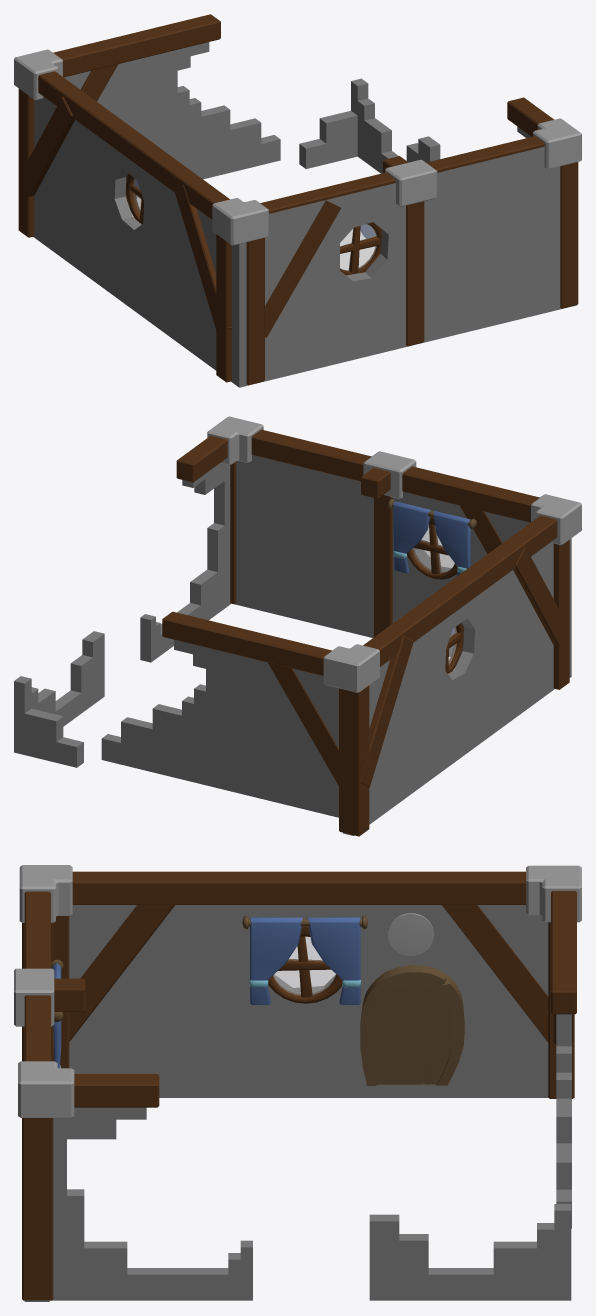
Rendered from WallInhouse.fbx.
3 renders of one model, top to bottom at view 1: azimuth 30°, elevation 25°; view 2: azimuth 150°, elevation 25°; view 3: azimuth 270°, elevation 25°, orthographic. The views are drawn at different scales.
Parts seen in each view (by area): view 1: Cube.091, Windows.001, Windows.002; view 2: Cube.091, Cube.098, Windows.001, Windows.002; view 3: Cube.091, puerta.002, Cube.100, Windows.002, Cylinder.031.
Part boxes in pixels (left/top/right/bottom): Cube.091: left=14, top=14, right=581, bottom=387; Windows.001: left=340, top=222, right=381, bottom=275; Windows.002: left=125, top=174, right=143, bottom=224; Cube.091: left=14, top=416, right=581, bottom=836; Cube.098: left=393, top=501, right=470, bottom=576; Windows.001: left=407, top=517, right=457, bottom=579; Windows.002: left=445, top=623, right=463, bottom=673; Cube.091: left=14, top=865, right=581, bottom=1301; puerta.002: left=360, top=965, right=464, bottom=1086; Cube.100: left=250, top=917, right=360, bottom=1004; Windows.002: left=268, top=926, right=342, bottom=1003; Cylinder.031: left=387, top=913, right=433, bottom=955.
Size of the model in its own units: 6.44 by 3.04 by 7.07.
